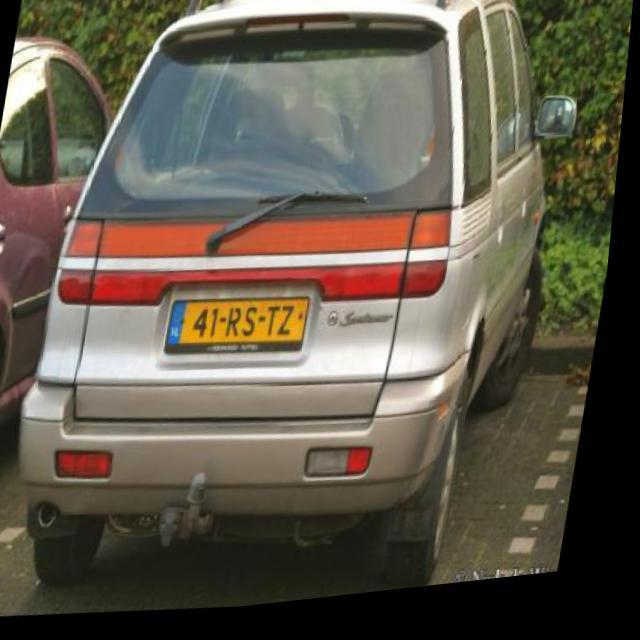license_plate: (170, 290, 320, 370)
